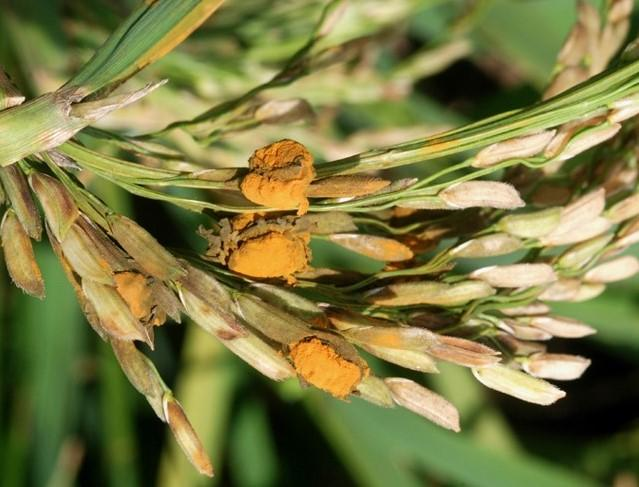False Smut: (196, 204, 324, 289), (284, 327, 375, 402), (236, 136, 316, 219), (101, 260, 183, 338), (388, 200, 445, 259)
